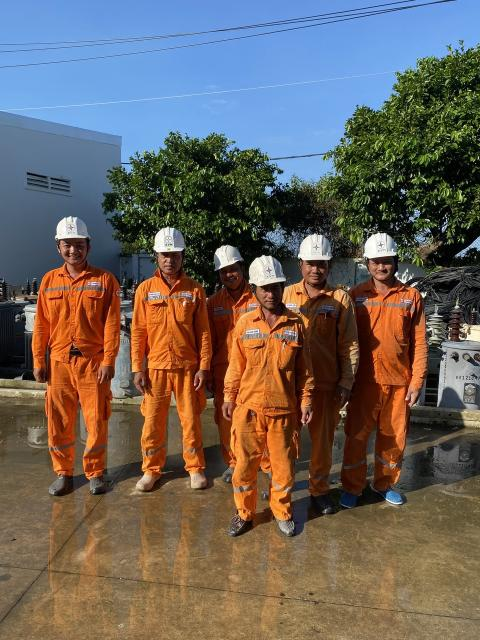helmet: (237, 247, 287, 294), (42, 212, 102, 248), (359, 225, 401, 267), (291, 230, 337, 263), (152, 219, 186, 257), (207, 240, 240, 273)
shoes: (372, 476, 411, 509), (129, 462, 159, 498), (270, 507, 300, 539), (310, 483, 335, 521), (223, 508, 250, 542), (331, 479, 354, 518), (42, 474, 77, 498), (183, 459, 205, 491), (84, 472, 103, 499), (218, 467, 240, 486)
